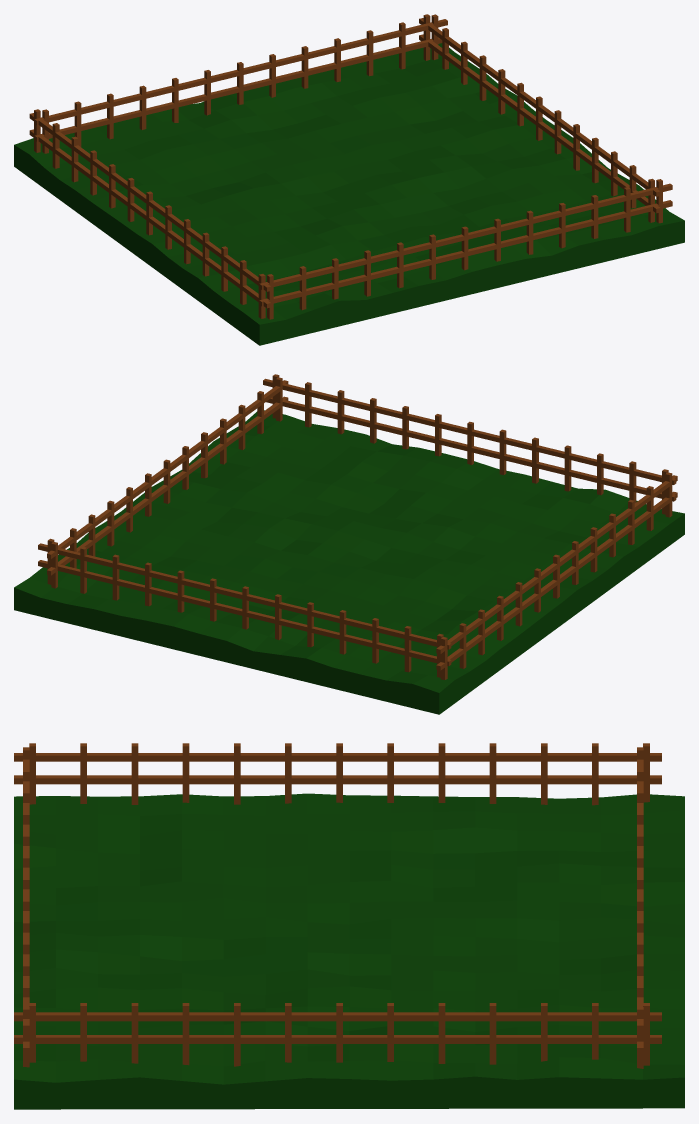
File: Arena.fbx
3 views of the same model, one above another, from view 1: azimuth 30°, elevation 25°; view 2: azimuth 150°, elevation 25°; view 3: azimuth 270°, elevation 25° (orthographic). The views are drawn at different scales.
Parts seen in each view (by area): view 1: Ground, Cube.004, Cube.002, Cube.001, Cube.003; view 2: Ground, Cube.002, Cube.004, Cube.001, Cube.003; view 3: Ground, Cube.001, Cube.003, Cube.002, Cube.004.
Boxes of the visible parts, <box> form: Ground: <box>14,43,684,345</box>; Cube.004: <box>259,179,672,319</box>; Cube.002: <box>34,14,447,153</box>; Cube.001: <box>29,109,270,318</box>; Cube.003: <box>419,14,660,222</box>; Ground: <box>14,410,684,714</box>; Cube.002: <box>38,538,451,677</box>; Cube.004: <box>263,374,676,514</box>; Cube.001: <box>436,472,677,679</box>; Cube.003: <box>47,377,288,588</box>; Ground: <box>14,793,684,1109</box>; Cube.001: <box>14,743,661,805</box>; Cube.003: <box>14,1003,661,1066</box>; Cube.002: <box>637,747,643,1068</box>; Cube.004: <box>23,747,29,1067</box>.
Size of the model in its own units: 4000 by 575 by 4001.
